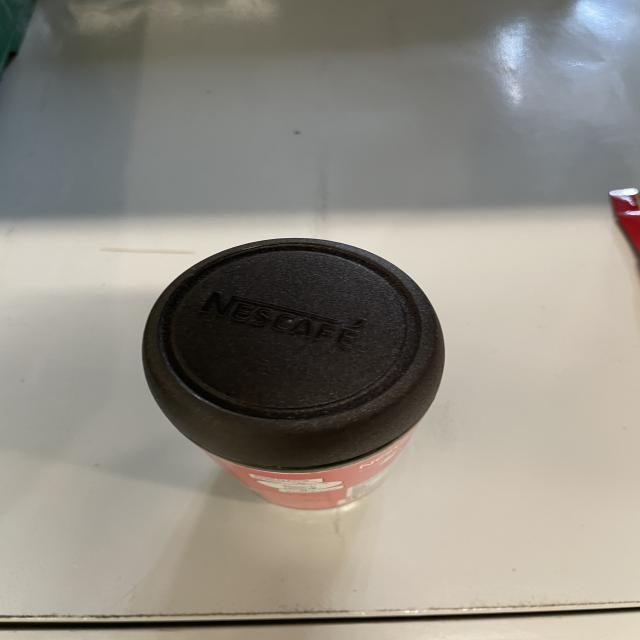object_name: (145, 240, 448, 530)
